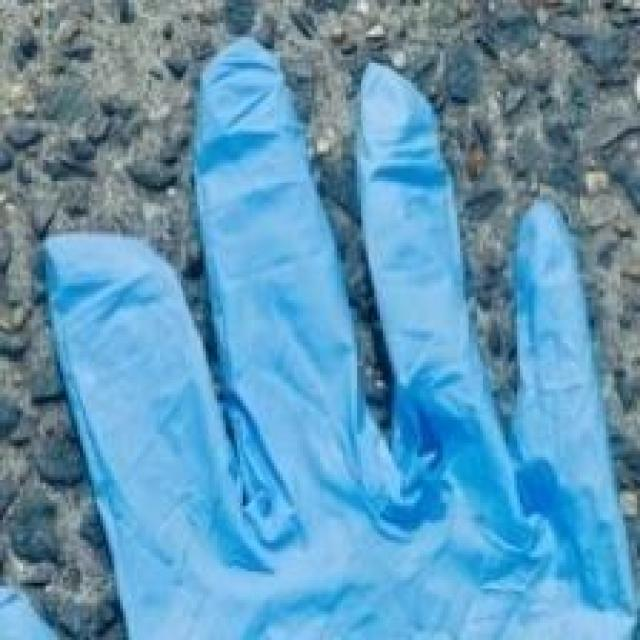Glove: (0, 1, 636, 640)
